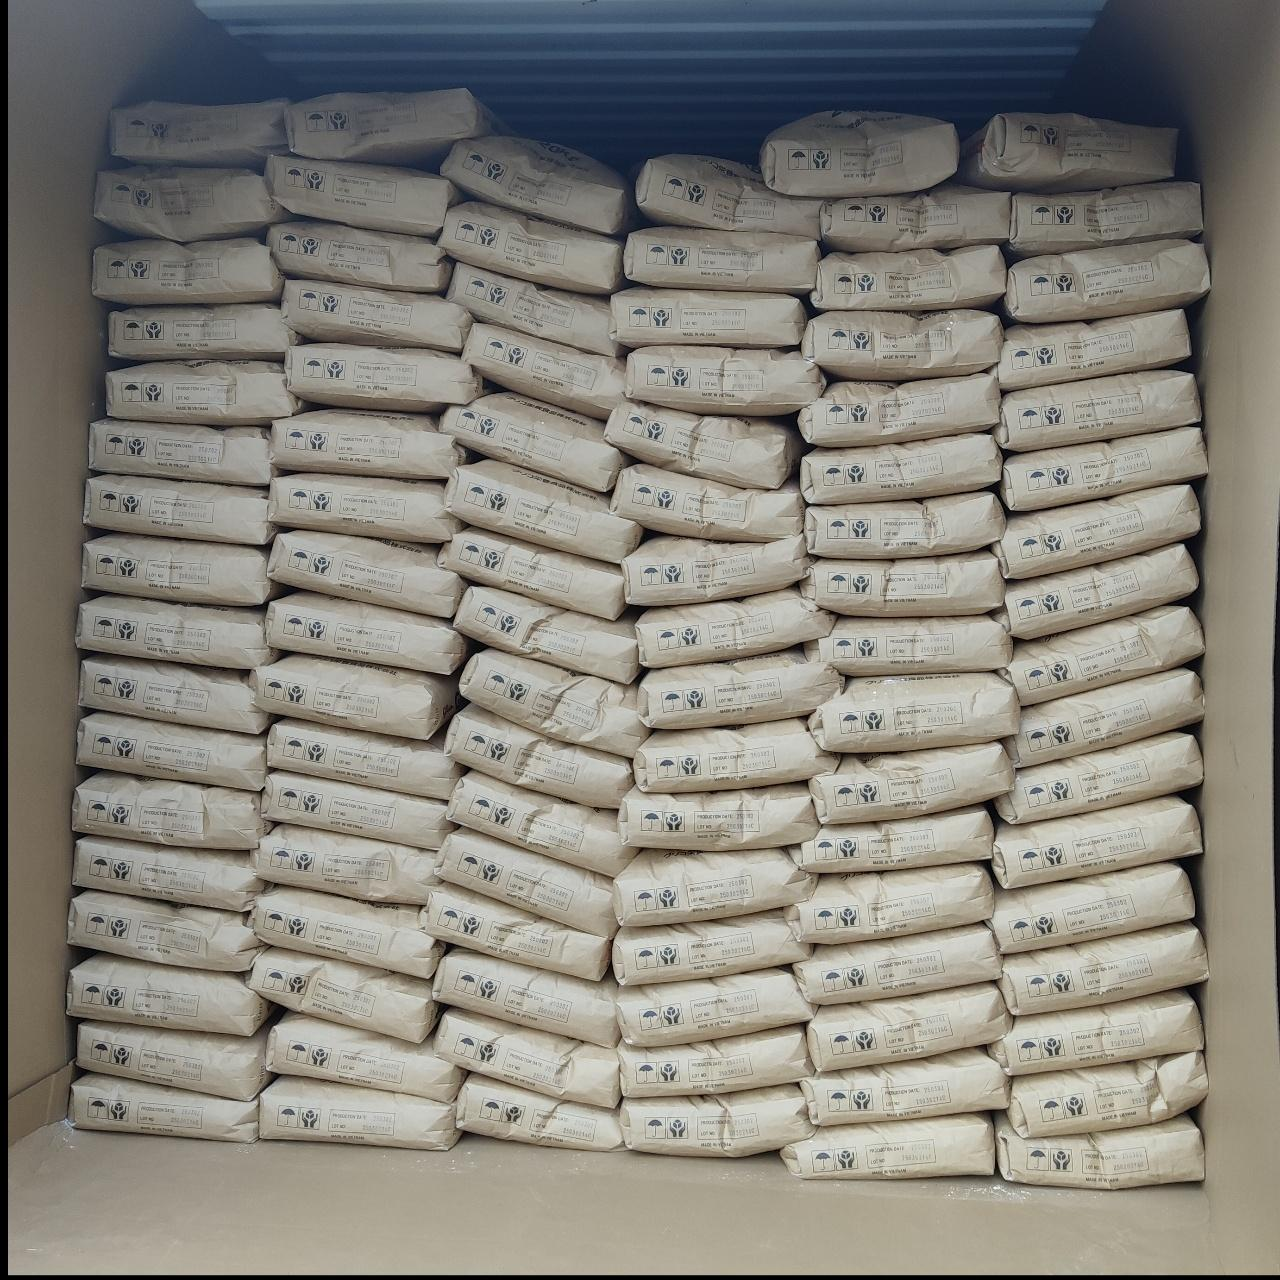sack: (460, 648, 646, 756), (448, 460, 640, 560), (1002, 606, 1202, 702), (1006, 670, 1202, 766), (450, 772, 634, 874), (438, 828, 614, 934), (1000, 924, 1206, 1014), (446, 706, 630, 806), (996, 732, 1200, 822), (998, 546, 1196, 638), (442, 136, 630, 232), (440, 392, 624, 490), (994, 798, 1198, 886), (994, 486, 1198, 574), (456, 586, 638, 682), (434, 948, 616, 1044), (988, 864, 1190, 950), (422, 886, 610, 978), (992, 992, 1200, 1074), (248, 948, 436, 1038), (810, 984, 1006, 1070), (436, 1010, 618, 1102), (1000, 428, 1204, 510), (954, 114, 1174, 190), (250, 886, 440, 974), (268, 1014, 462, 1100), (440, 528, 624, 618), (760, 112, 956, 196), (440, 202, 622, 292), (606, 402, 800, 486), (270, 530, 462, 614), (1010, 1052, 1206, 1134), (250, 656, 456, 734), (288, 90, 494, 168), (1002, 240, 1206, 318), (786, 864, 990, 942), (810, 674, 1018, 750), (812, 744, 1012, 822), (802, 1048, 1006, 1124), (268, 592, 466, 670), (266, 154, 458, 234), (638, 650, 840, 726), (68, 954, 270, 1030), (796, 926, 998, 1002), (996, 1114, 1202, 1188), (994, 310, 1188, 388), (448, 264, 616, 354), (638, 156, 822, 238), (268, 720, 460, 798), (996, 372, 1198, 446), (1006, 182, 1202, 258), (464, 324, 622, 418), (70, 892, 260, 970), (636, 590, 830, 666), (618, 968, 812, 1044), (80, 654, 268, 732), (616, 850, 814, 924), (78, 712, 264, 790), (252, 824, 438, 902), (612, 464, 802, 540), (74, 772, 268, 846), (78, 596, 276, 668), (260, 1076, 458, 1148), (614, 910, 810, 982), (634, 720, 834, 790), (74, 836, 262, 910), (264, 772, 452, 846), (800, 374, 998, 444), (78, 1022, 268, 1094), (84, 534, 278, 604), (626, 346, 822, 414), (802, 434, 998, 502), (96, 168, 286, 238), (282, 280, 470, 350), (286, 344, 484, 410), (272, 410, 464, 478), (618, 1026, 810, 1094), (802, 312, 998, 378), (620, 1086, 810, 1154), (270, 474, 458, 542), (268, 222, 450, 292), (624, 226, 816, 292), (86, 474, 272, 542), (70, 1074, 256, 1142), (782, 1114, 992, 1174), (794, 806, 990, 870), (806, 492, 1002, 556), (458, 1074, 622, 1150), (802, 552, 1002, 614), (624, 536, 806, 604), (812, 246, 1004, 310), (90, 418, 276, 484), (618, 784, 814, 846), (822, 184, 1006, 250), (110, 100, 286, 168), (806, 616, 1010, 674), (94, 238, 278, 302), (108, 362, 300, 422), (612, 288, 806, 346), (110, 304, 298, 358)
